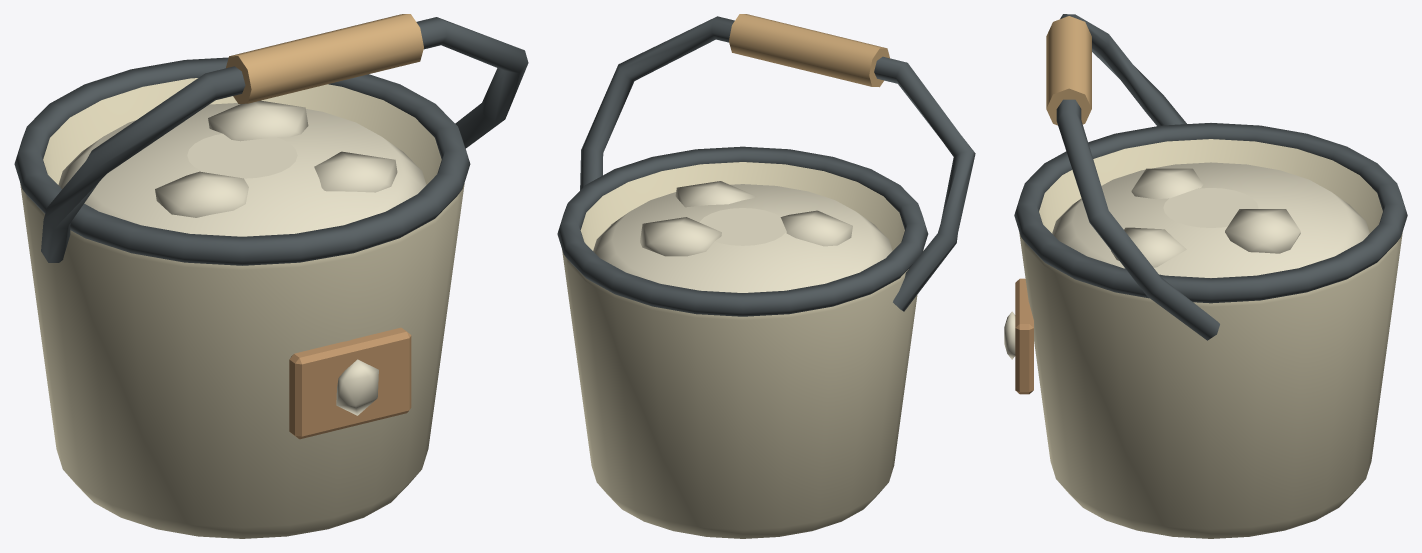
The model's file is goods_lime_pail.glb.
3 views of the same model, side by side, from view 1: azimuth 30°, elevation 25°; view 2: azimuth 150°, elevation 25°; view 3: azimuth 270°, elevation 25° (orthographic). The views are drawn at different scales.
Visible parts, largest first — view 1: goods_lime_pail; view 2: goods_lime_pail; view 3: goods_lime_pail.
Part boxes in pixels (x1=…): goods_lime_pail: x1=14, y1=14, x2=528, y2=538; goods_lime_pail: x1=557, y1=14, x2=975, y2=538; goods_lime_pail: x1=1004, y1=14, x2=1407, y2=538.
Bounding box in the file's own units: 0.4436 × 0.452 × 0.3897.
